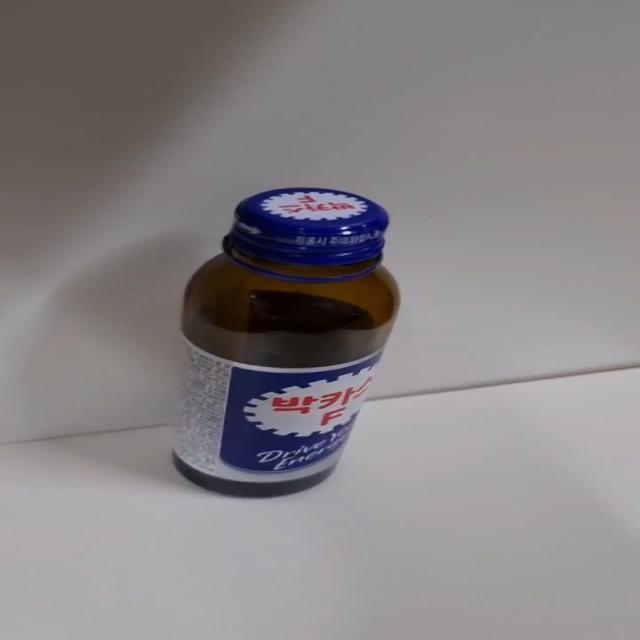Glass: (170, 187, 402, 500)
